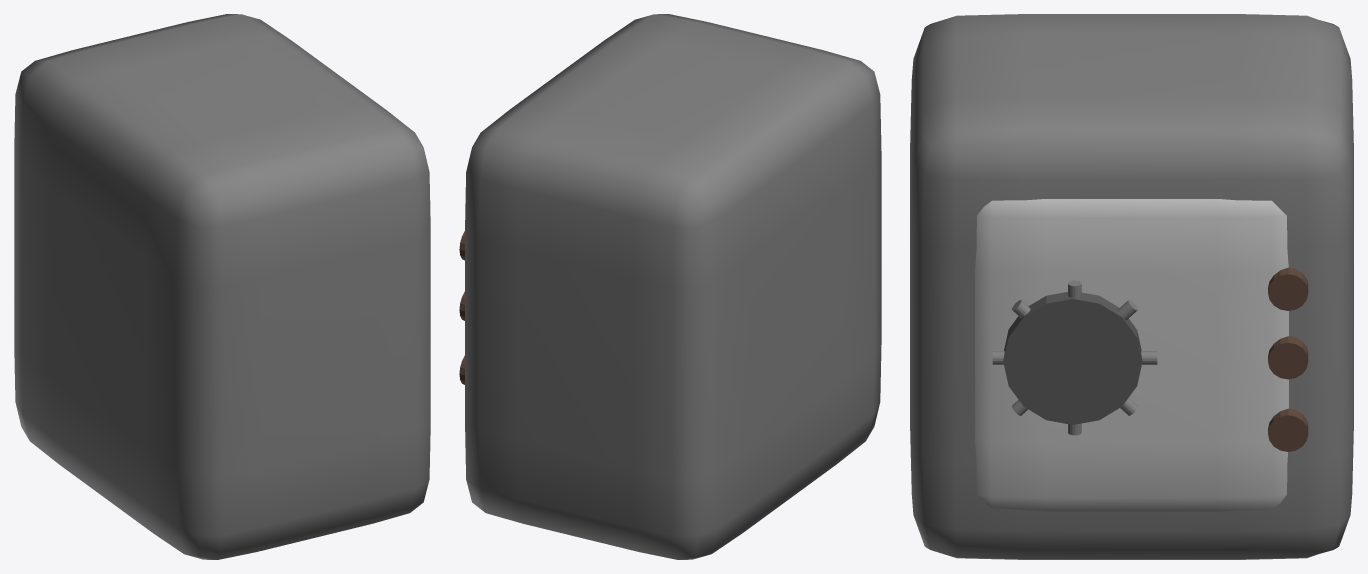
File: kasa.fbx
3 views of the same model, side by side, from view 1: azimuth 30°, elevation 25°; view 2: azimuth 150°, elevation 25°; view 3: azimuth 270°, elevation 25° (orthographic). The views are drawn at different scales.
Visible parts, largest first — view 1: kasa; view 2: kasa; view 3: kasa.
Boxes of the visible parts, box(x1,y1,x2,y2) form: kasa: box(14, 14, 430, 559); kasa: box(459, 14, 881, 559); kasa: box(910, 14, 1353, 559).
Bounding box in the file's own units: 0.7898 × 1.1 × 0.9989.
